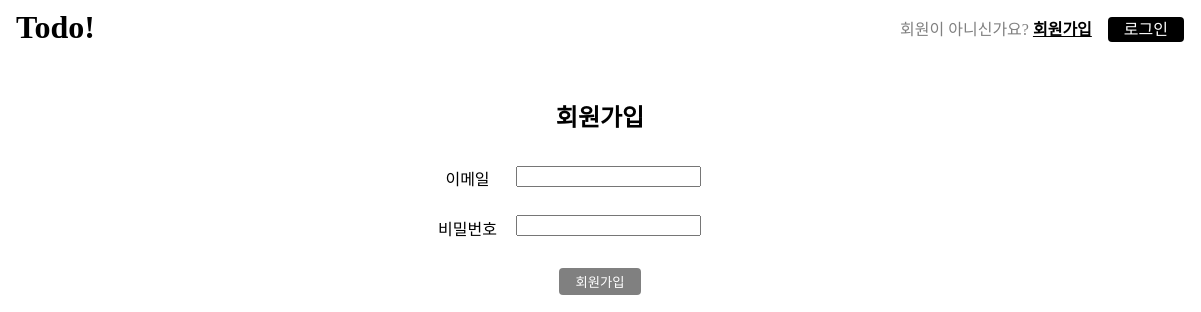
Test: 회원가입 페이지에서 비밀번호 실패했을 때 버튼 disabled
The width and height of the screenshot is (1201, 312).
Step 1. Type "te@st" into the field with test id "email-input" → x=608, y=176, box top-left (516, 166), bottom-right (700, 187)
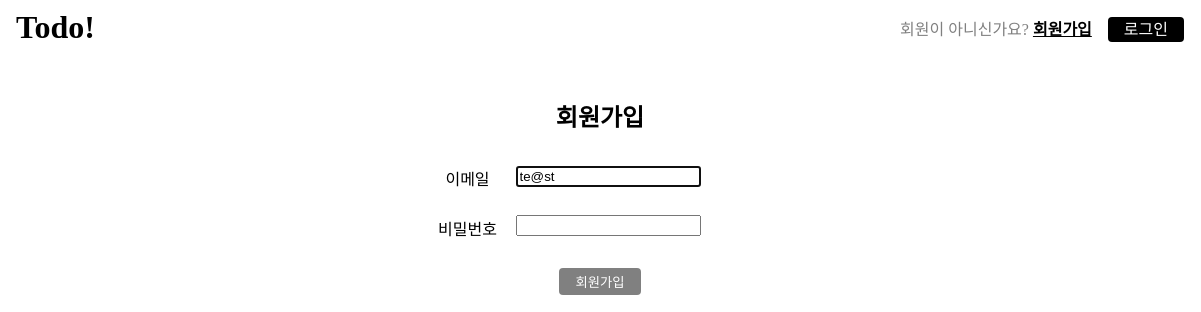
Step 2. Type "123456" into the password field with test id "password-input" → x=608, y=226, box top-left (516, 215), bottom-right (700, 236)
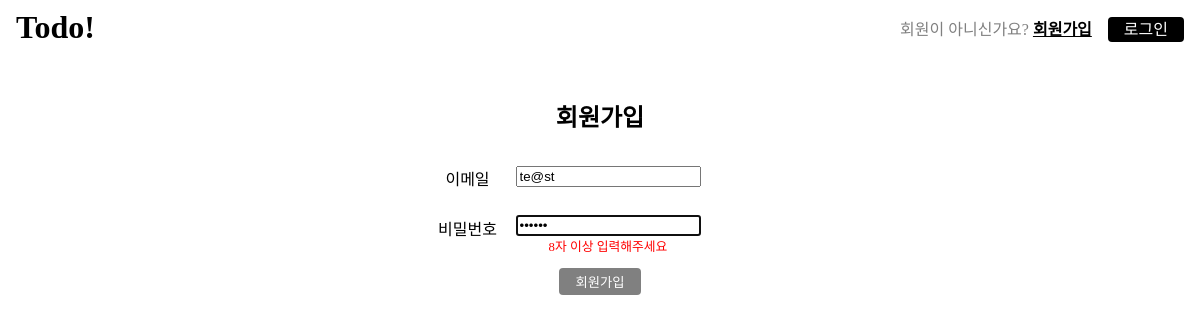
expect the text "8자 이상 입력해주세요" is shown: met, box top-left (549, 236), bottom-right (667, 252)
